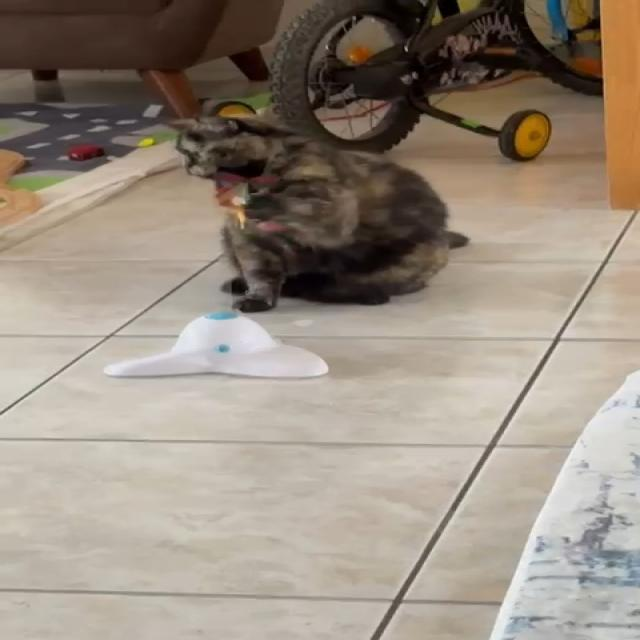authorized: (162, 110, 470, 314)
